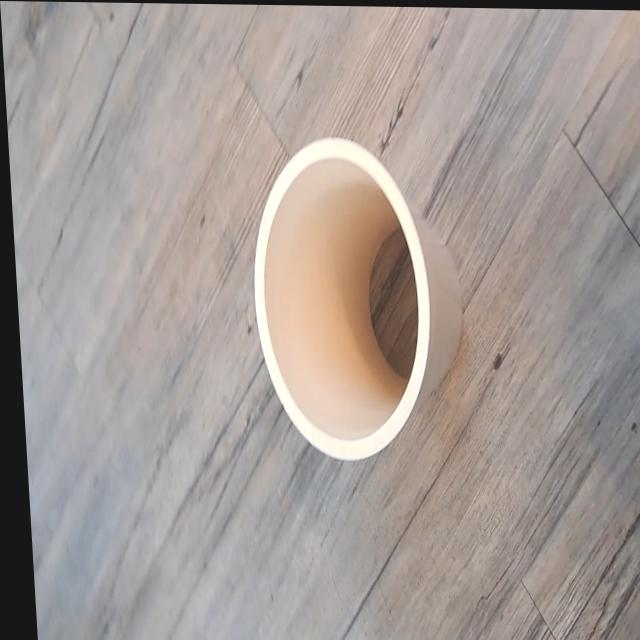CORAL: (221, 106, 465, 483)
